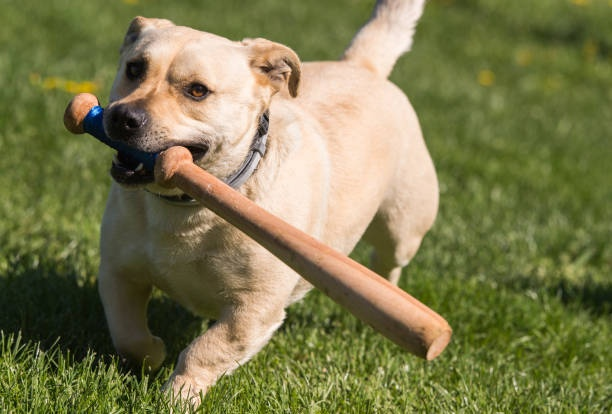bita: (156, 154, 454, 359)
